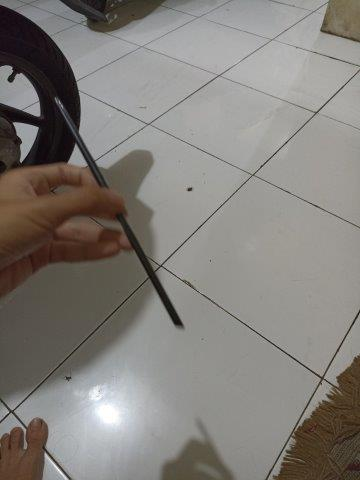sedotan: (53, 95, 185, 326)
